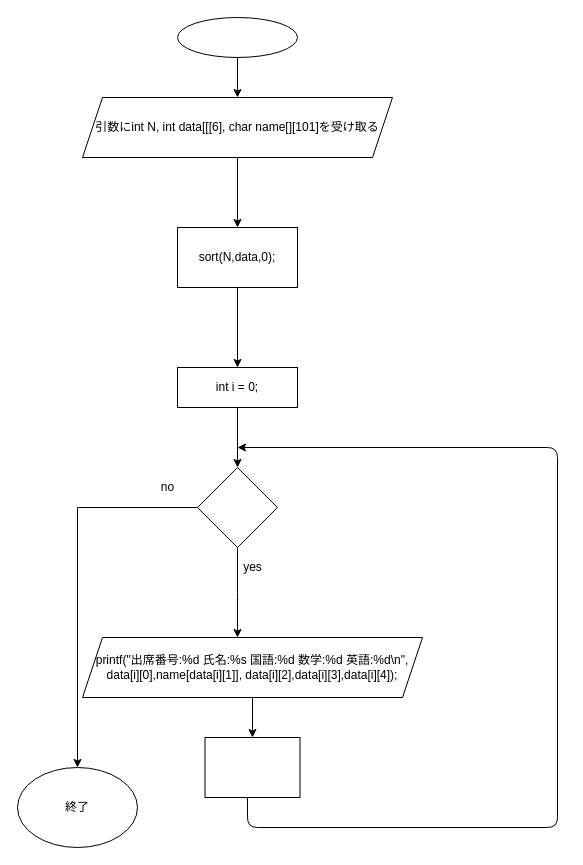
This 583x865 diagram has some shape labels left out. The box of each missing label's shape, as (x1, y1, x2, y2) in pixels:
i < N;: (196, 466, 278, 548)
i++;: (204, 736, 300, 798)
開始: (176, 16, 298, 58)
